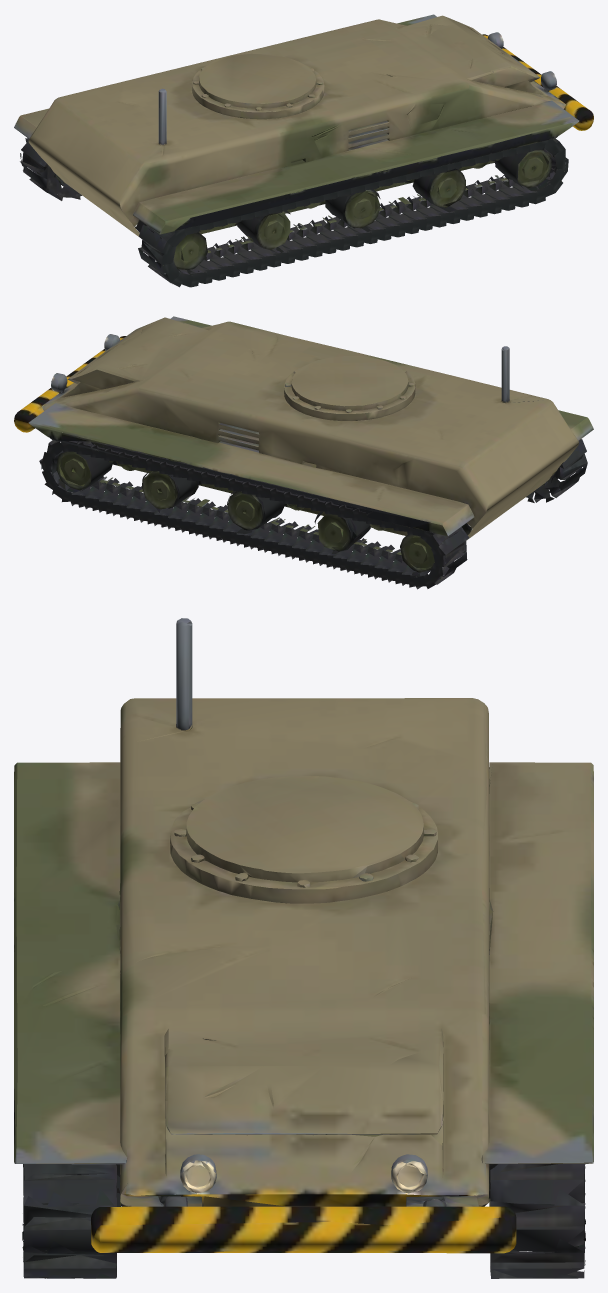
File: chassis-scout-0-light.glb
3 views of the same model, one above another, from view 1: azimuth 30°, elevation 25°; view 2: azimuth 150°, elevation 25°; view 3: azimuth 270°, elevation 25° (orthographic). The views are drawn at different scales.
Parts seen in each view (by area): view 1: chassis-scout-0-light; view 2: chassis-scout-0-light; view 3: chassis-scout-0-light.
Boxes of the visible parts, box(x1,y1,x2,y2) form: chassis-scout-0-light: box(14, 14, 593, 287); chassis-scout-0-light: box(14, 316, 593, 589); chassis-scout-0-light: box(14, 618, 593, 1278).
Bounding box in the file's own units: 1.84 × 0.6252 × 0.996.
Materials: 1 (1 with a texture image).
